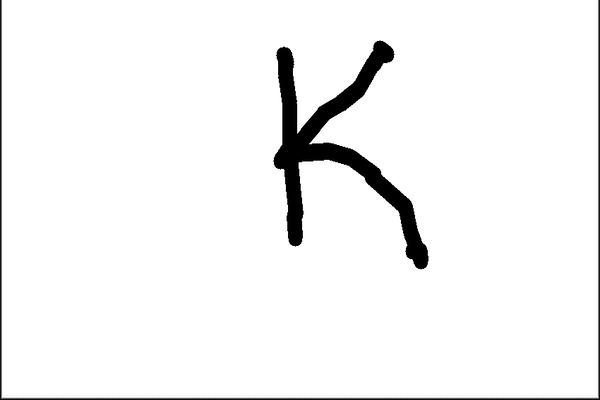K: (263, 33, 433, 277)
